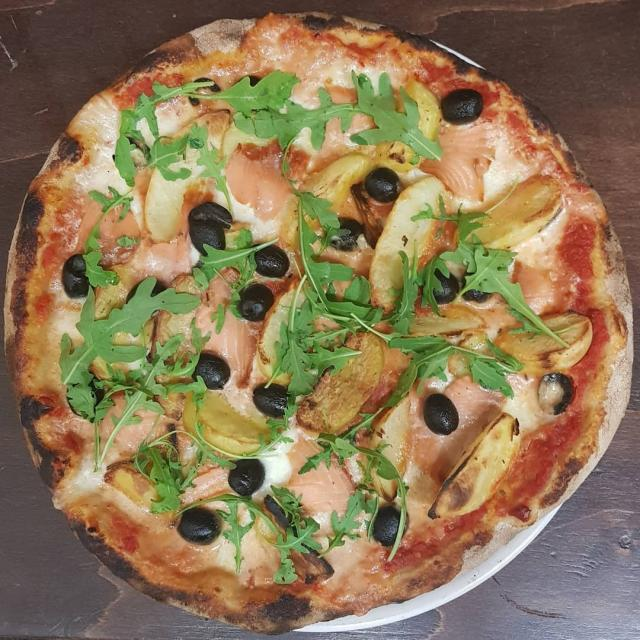black_olives: (179, 508, 221, 545), (441, 89, 484, 124), (424, 394, 459, 436), (538, 372, 572, 415), (193, 353, 231, 390), (228, 459, 265, 497), (238, 283, 274, 322), (61, 253, 90, 299), (365, 167, 401, 203), (189, 220, 225, 255), (68, 382, 98, 422), (255, 244, 290, 278), (188, 202, 232, 229), (252, 384, 288, 417), (330, 218, 364, 251), (373, 506, 400, 546), (433, 269, 460, 304), (264, 495, 290, 530), (462, 290, 492, 302), (132, 147, 148, 169), (195, 77, 220, 91), (151, 281, 166, 296), (151, 281, 166, 296), (126, 284, 138, 302), (249, 75, 261, 86), (189, 96, 200, 106)
pizza: (5, 14, 632, 630)
